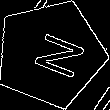N_W: (19, 26, 82, 82)
